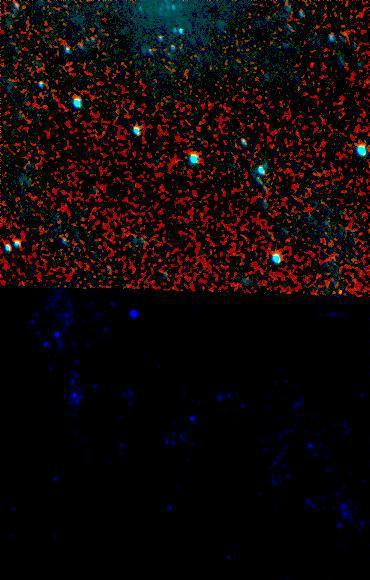star: (298, 48, 328, 78)
